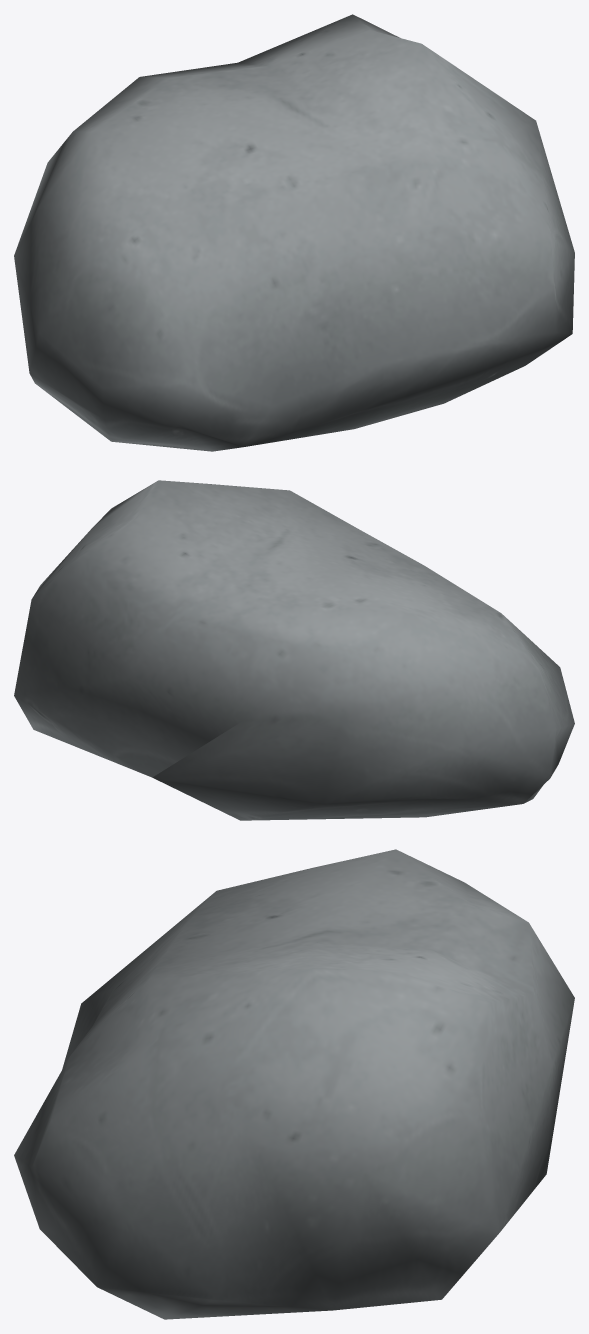
Rendered from Model_clay_01_b.fbx.
3 renders of one model, top to bottom at view 1: azimuth 30°, elevation 25°; view 2: azimuth 150°, elevation 25°; view 3: azimuth 270°, elevation 25°, orthographic. The views are drawn at different scales.
Visible parts, largest first — view 1: clay_01_b; view 2: clay_01_b; view 3: clay_01_b.
Boxes of the visible parts, x1,y1,x2,y2 form: clay_01_b: (14, 14, 574, 451); clay_01_b: (14, 480, 574, 820); clay_01_b: (14, 849, 574, 1319).
Size of the model in its own units: 142 by 80.04 by 115.
